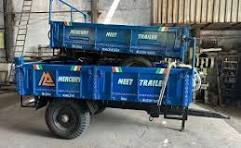wheel: (46, 100, 85, 138)
